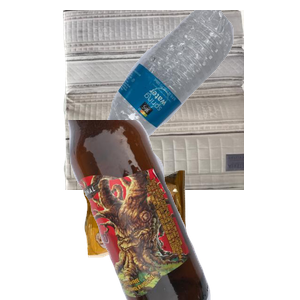glass: (65, 120, 300, 300)
paper: (60, 10, 300, 190)
plastic: (94, 10, 300, 154)
trash: (81, 168, 261, 300)
